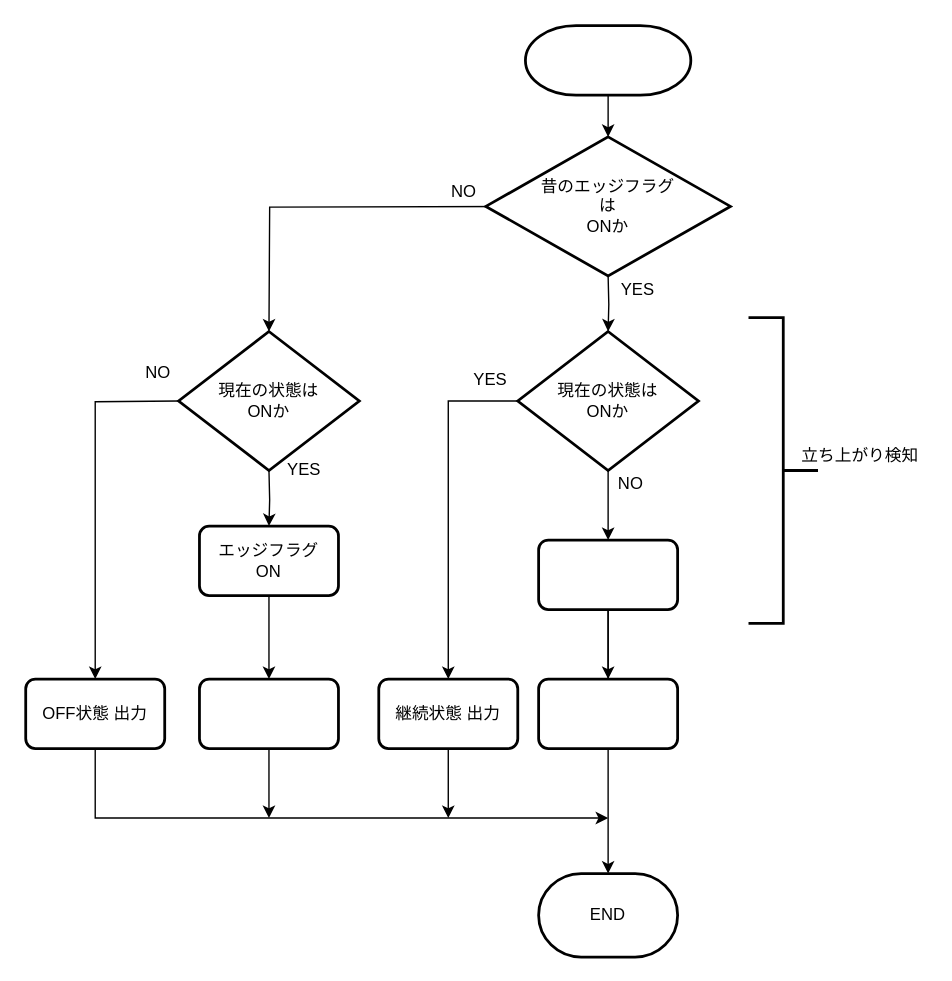
The diagram is 952 pixels wide and 981 high, and some of its shapes have lost their labels. Here are the shapes that lost their labels. From the top down, the box of each, then its label:
(523, 24, 692, 96): エッジ検知
(537, 538, 678, 610): エッジフラグ OFF
(197, 677, 339, 749): 立ち上がり状態 出力
(537, 677, 678, 749): 立ち下がり状態 出力
